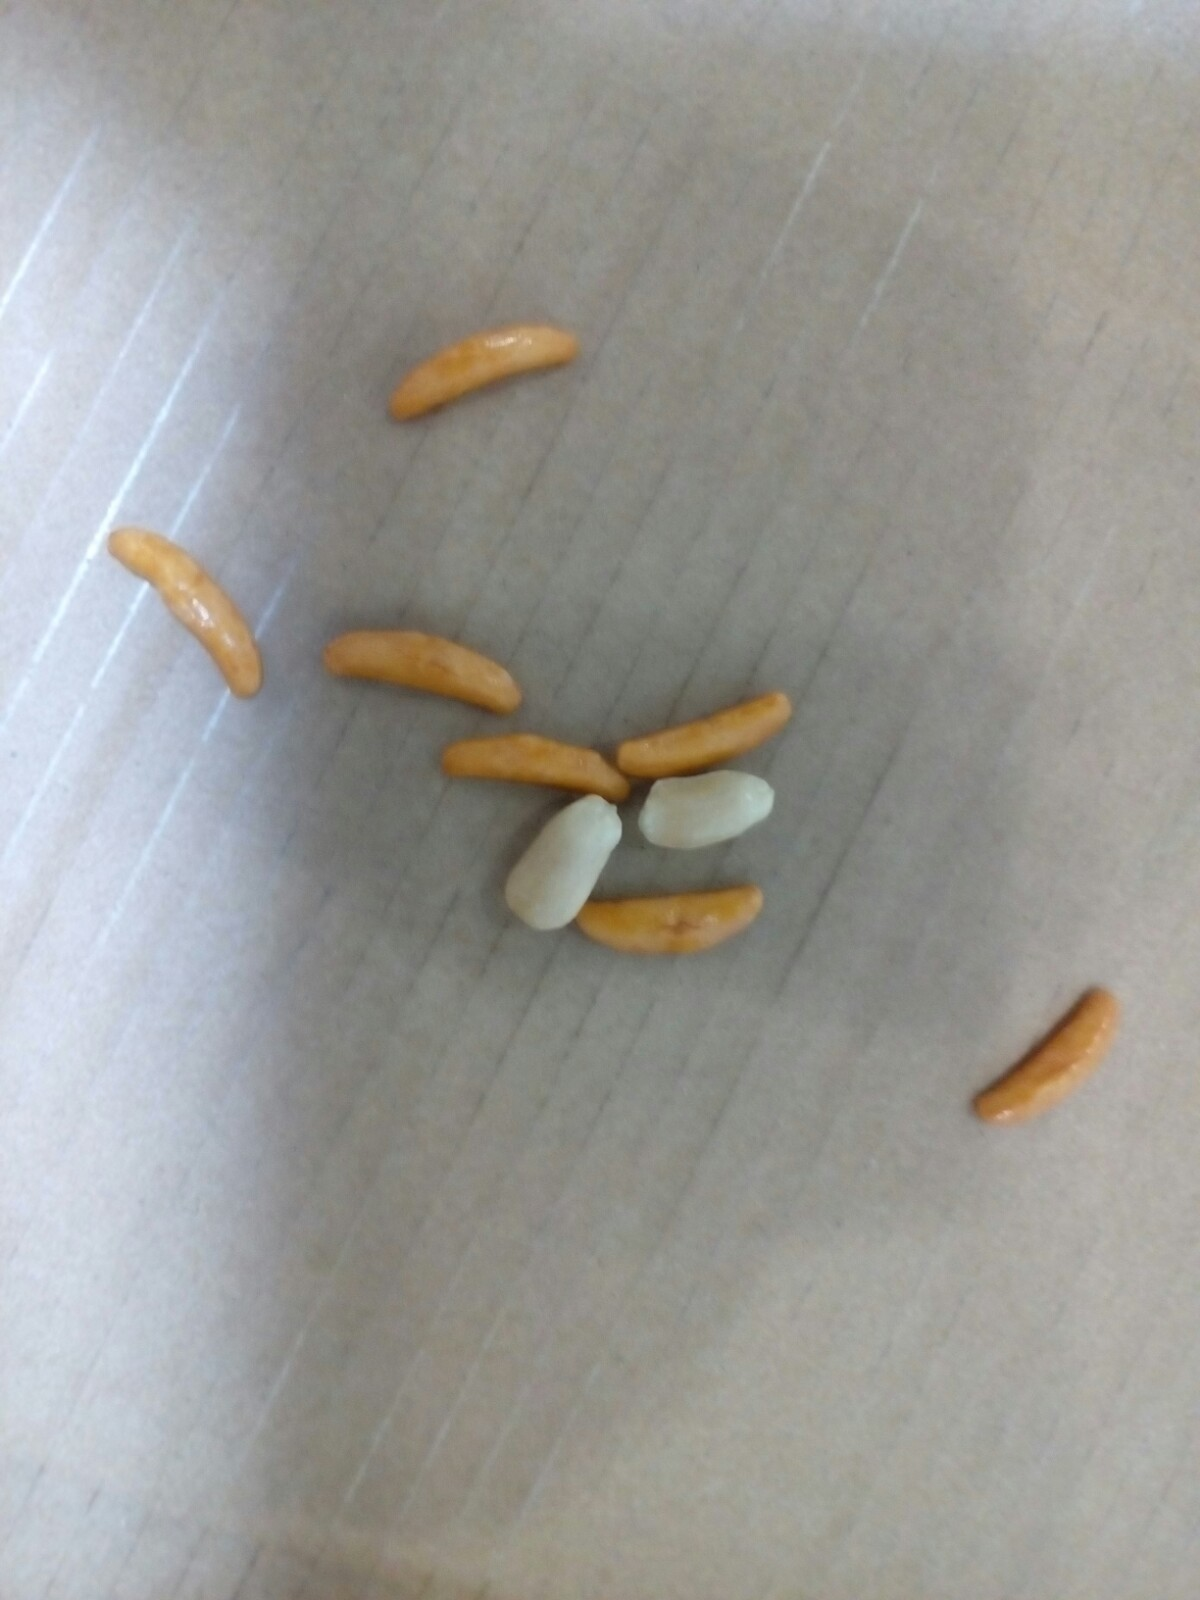peanut: (499, 789, 626, 931), (635, 765, 782, 857)
